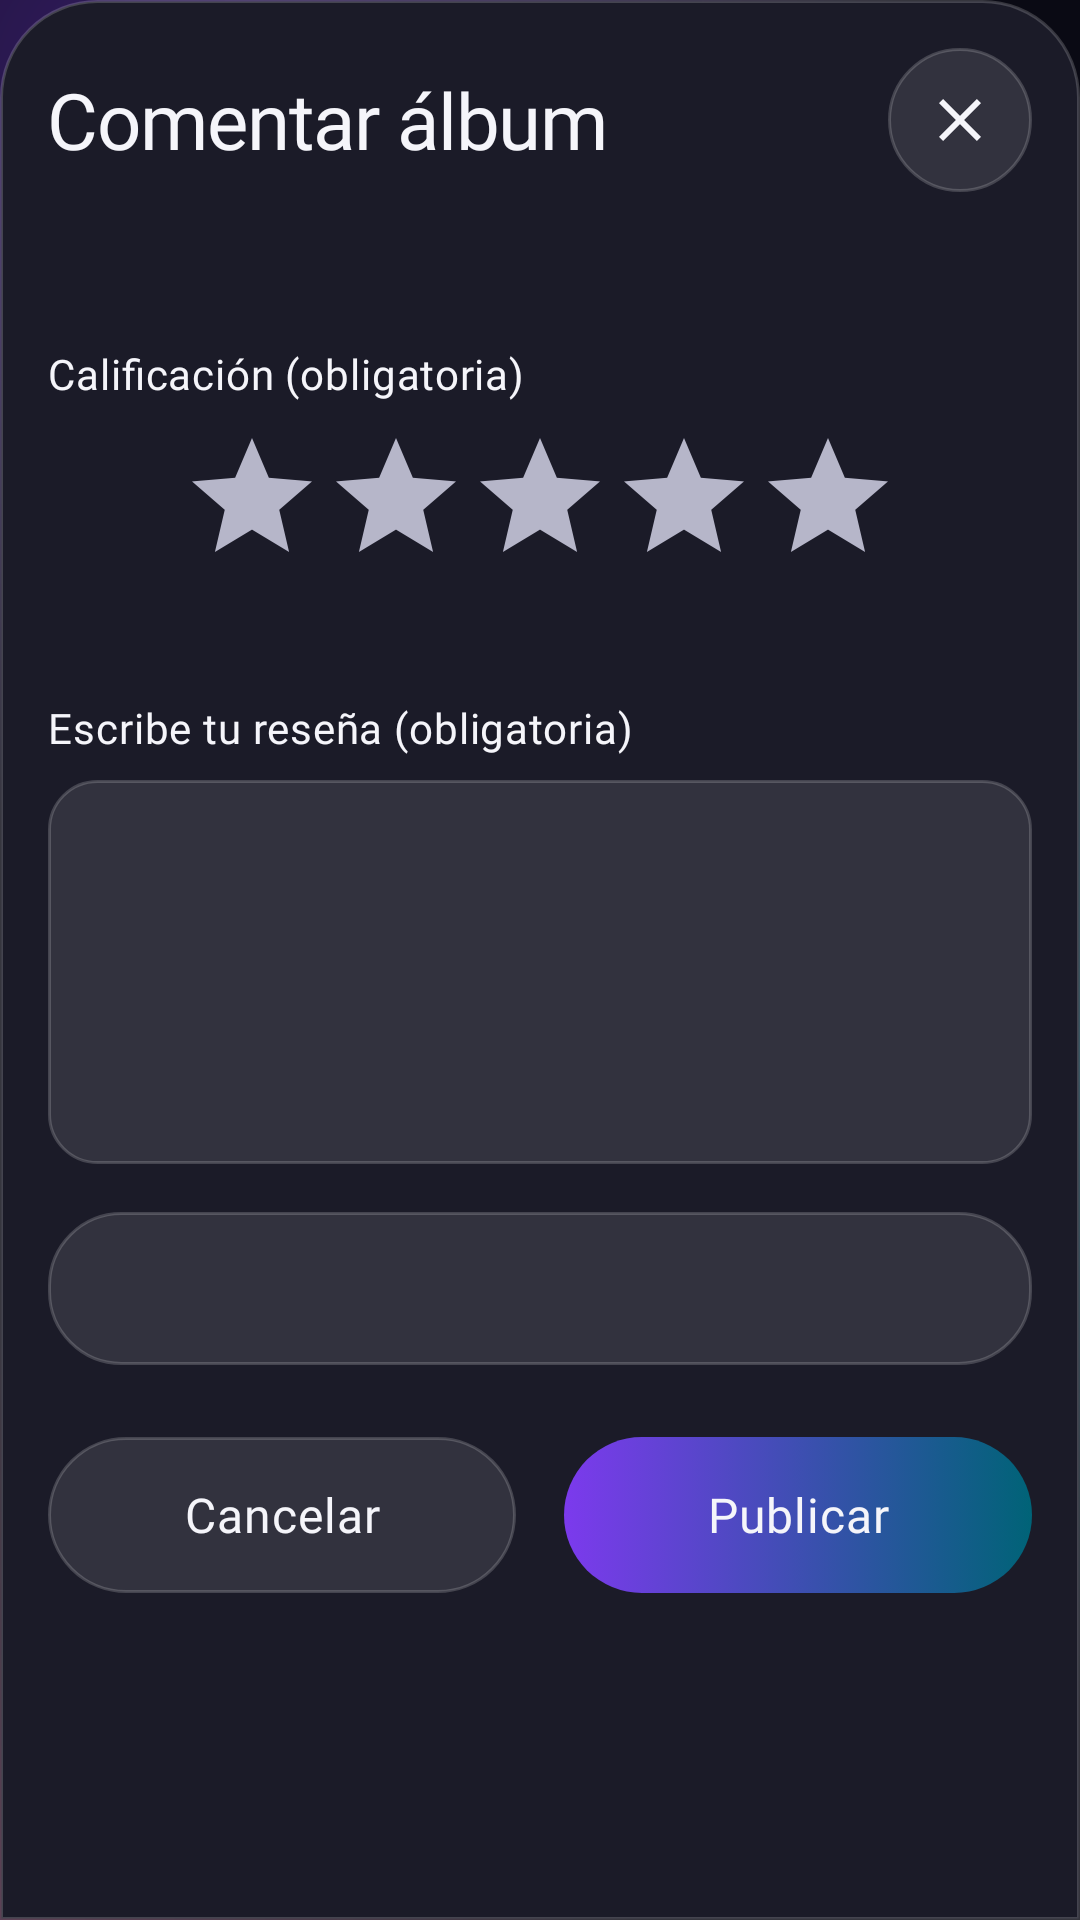

Where to tap for icons on this 1080w x 1920h app screen, as [x,y]:
Cerrar: [960,120]
